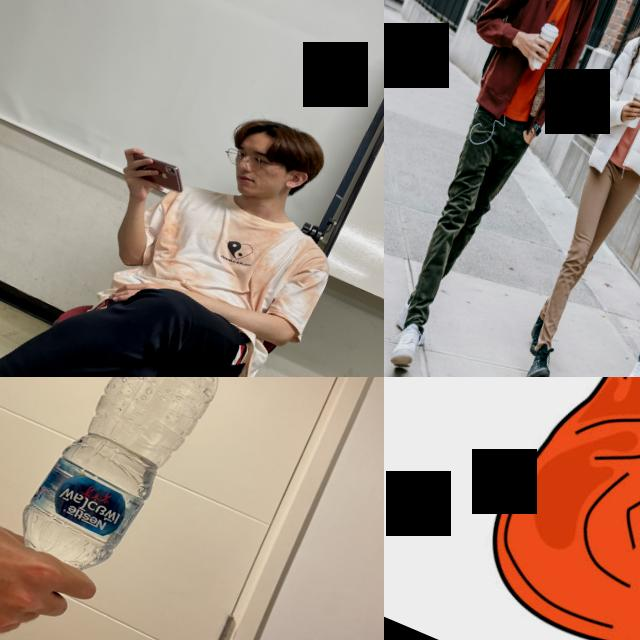bottle: (10, 377, 230, 594)
cup: (524, 21, 562, 72), (619, 82, 640, 130)
